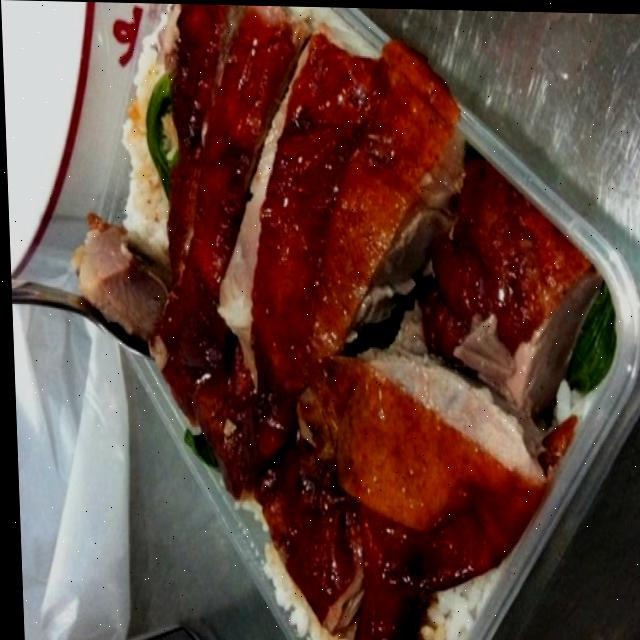烧串烤肉: (26, 0, 640, 640)
